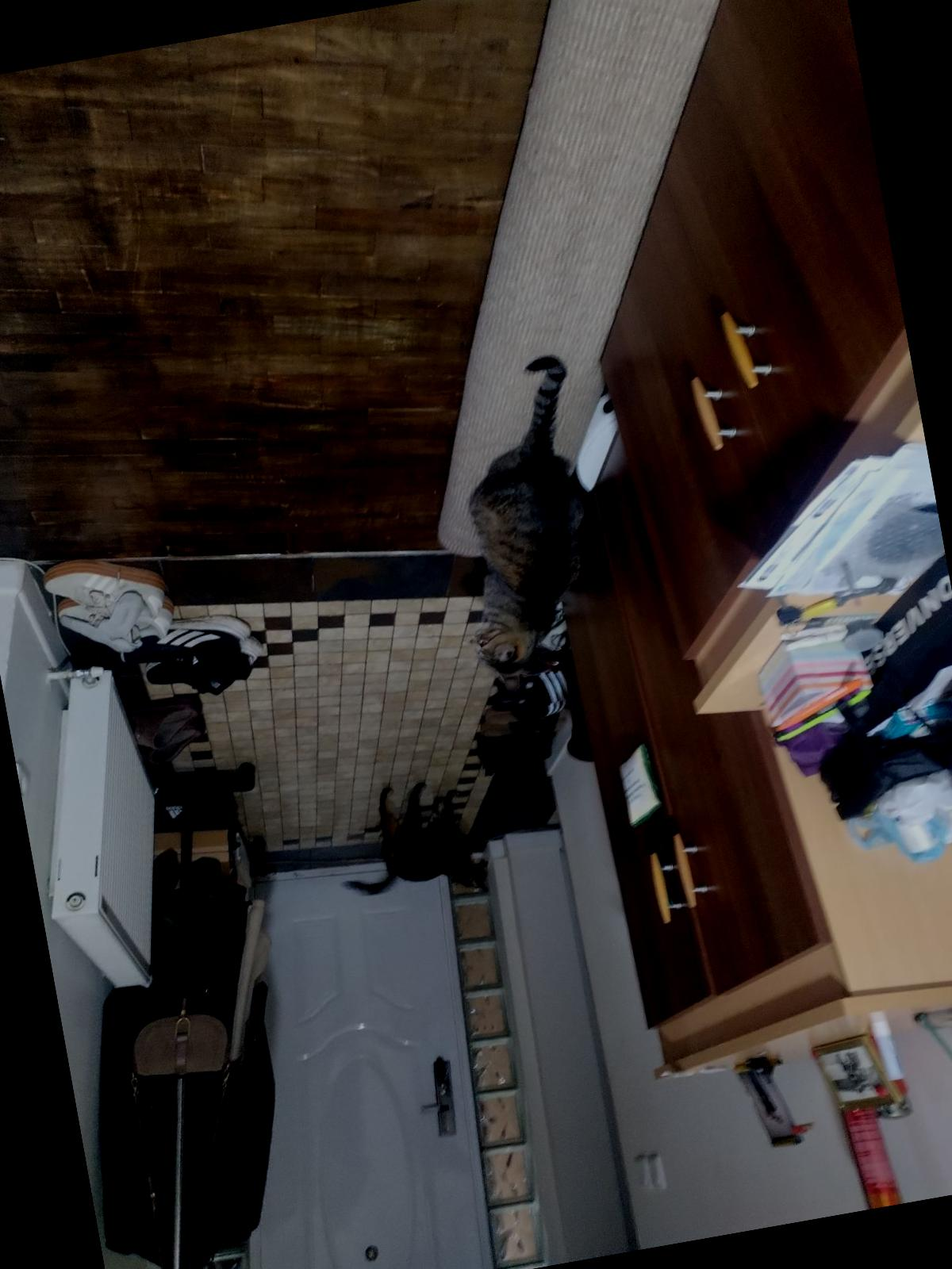macka: (416, 353, 620, 702), (328, 773, 493, 912)
